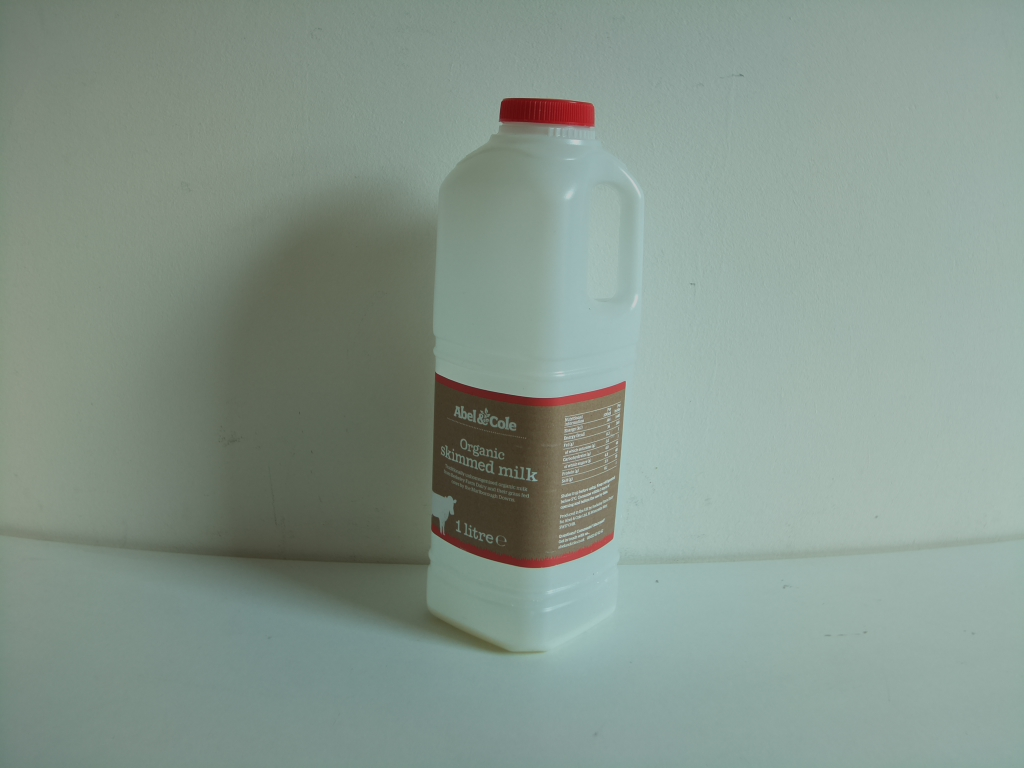milk: (419, 96, 649, 656)
